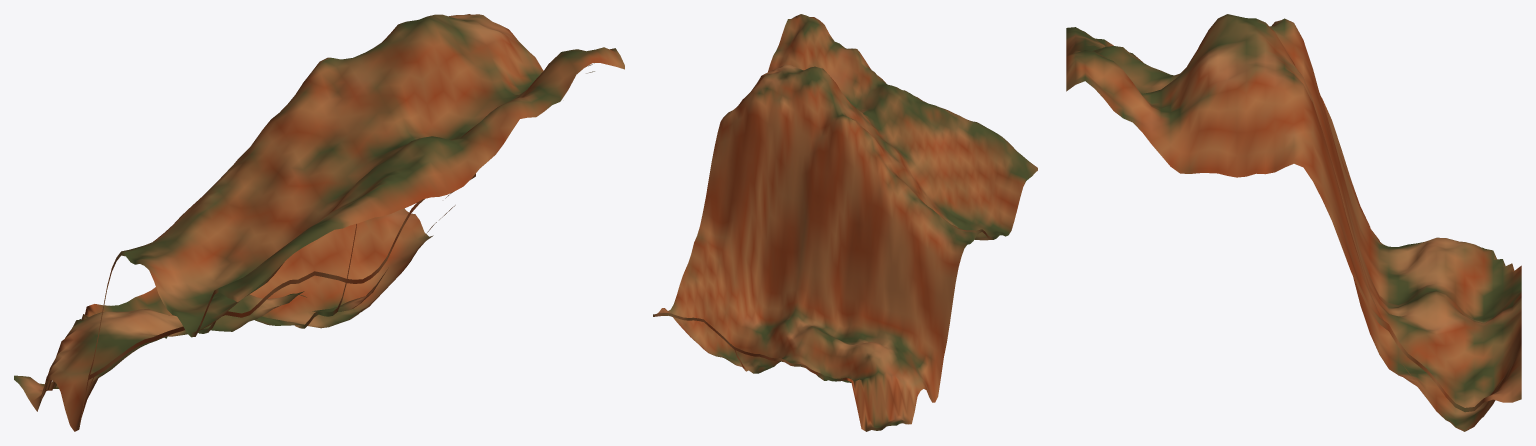
The model's file is terrain-036.glb.
3 renders of one model, left to right at view 1: azimuth 30°, elevation 25°; view 2: azimuth 150°, elevation 25°; view 3: azimuth 270°, elevation 25°, orthographic. The views are drawn at different scales.
Parts seen in each view (by area): view 1: terrain-036; view 2: terrain-036; view 3: terrain-036.
Part boxes in pixels (x1=…): terrain-036: x1=14, y1=14, x2=624, y2=431; terrain-036: x1=653, y1=14, x2=1037, y2=431; terrain-036: x1=1066, y1=14, x2=1521, y2=431.
Size of the model in its own units: 384 by 402 by 384.
